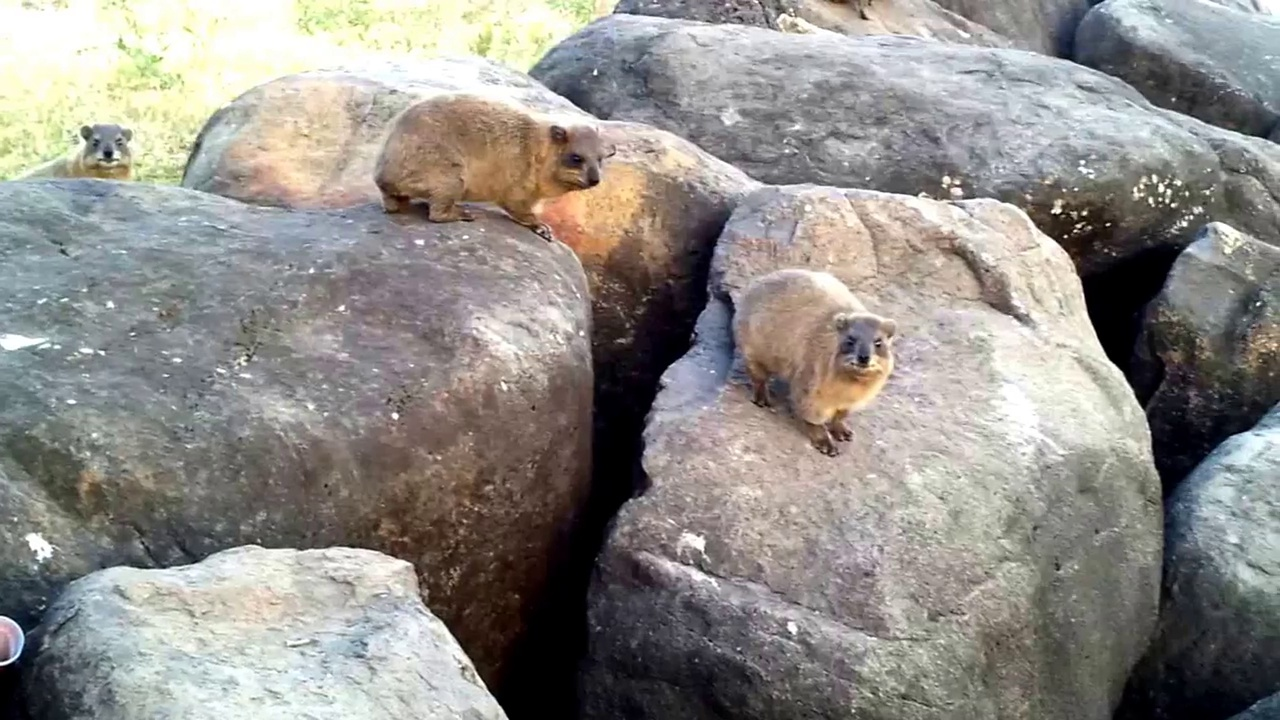Rock Hyrex: (372, 90, 605, 245), (730, 267, 899, 458), (15, 122, 135, 185)
